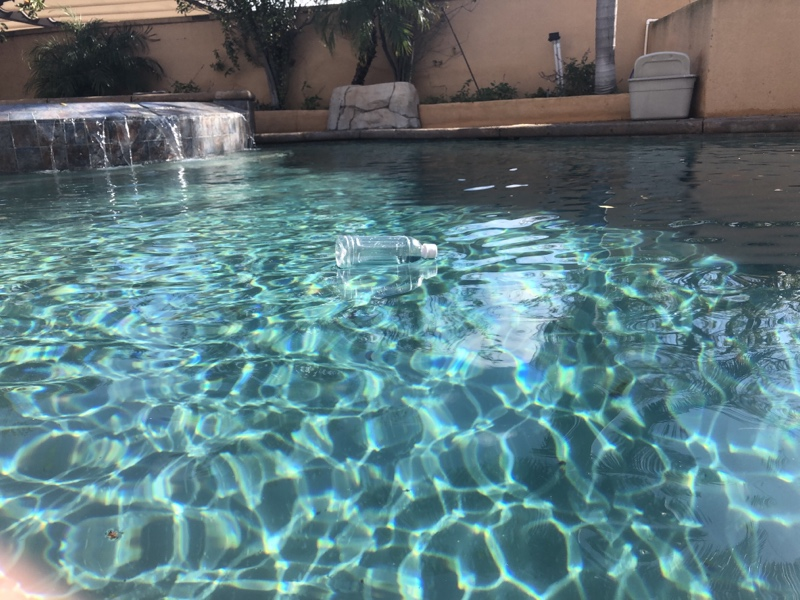Plastic Bottle: (331, 227, 440, 271)
